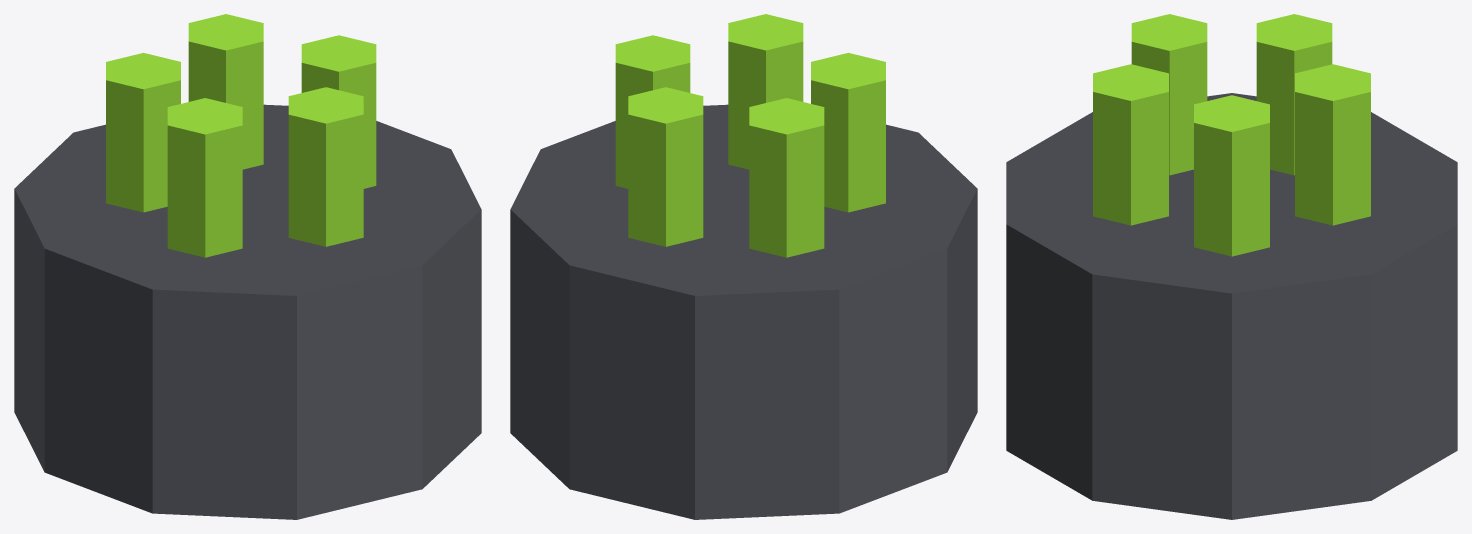
The model's file is enriched_uranium.obj.
3 views of the same model, side by side, from view 1: azimuth 30°, elevation 25°; view 2: azimuth 150°, elevation 25°; view 3: azimuth 270°, elevation 25° (orthographic).
Size of the model in its own units: 0.76 by 0.62 by 0.7228.
